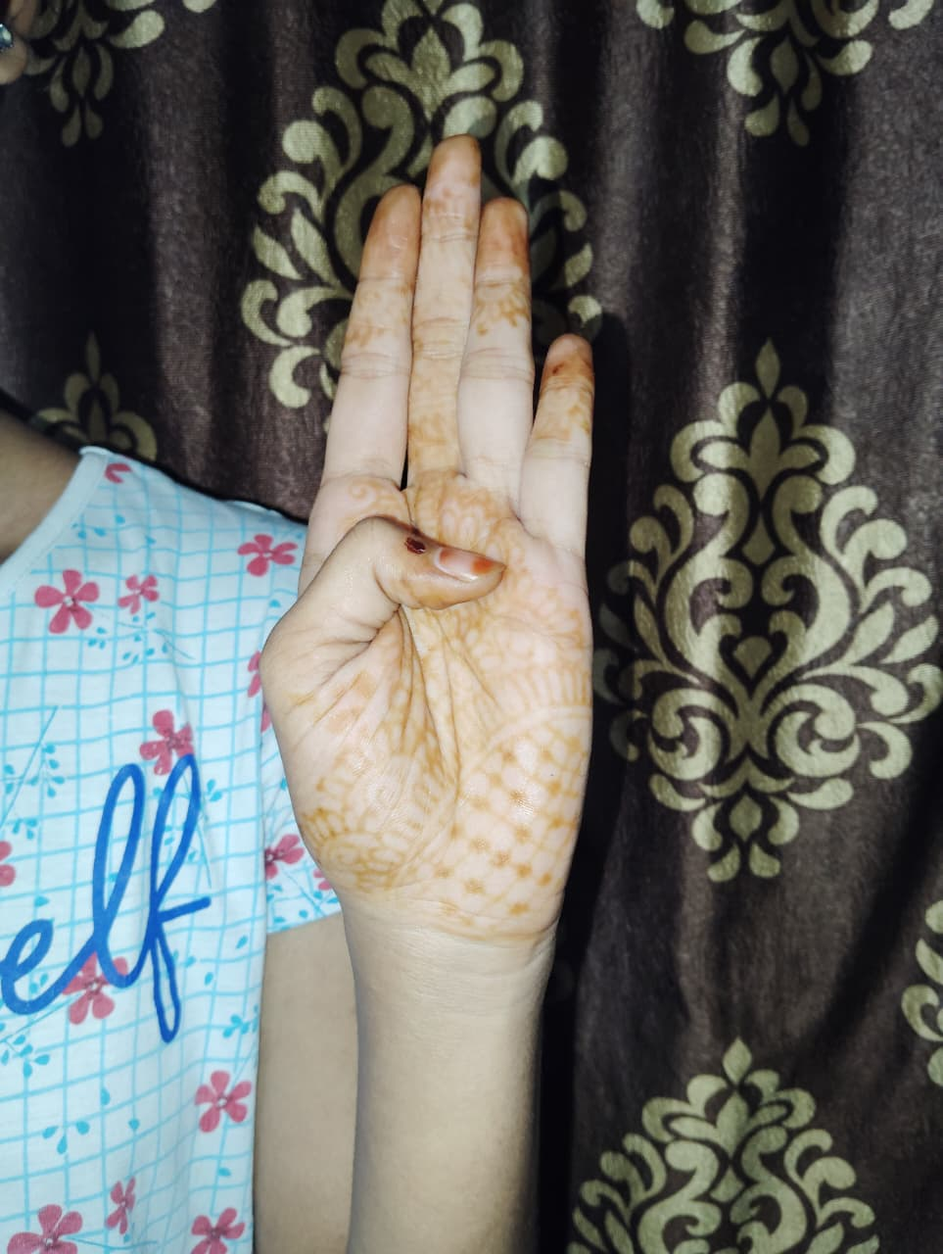B: (259, 139, 590, 922)
